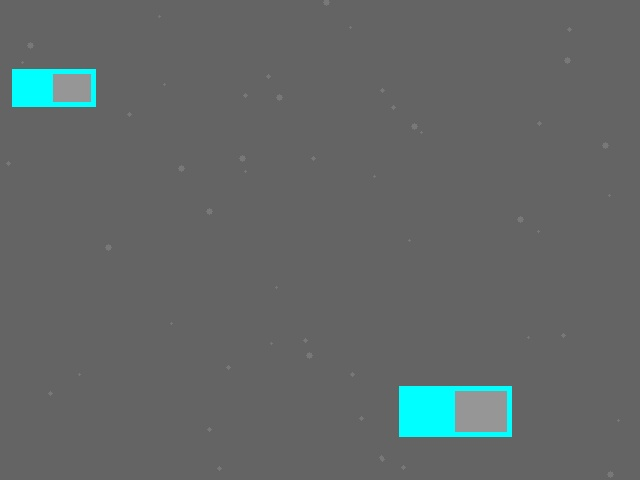truck: (399, 386, 511, 436), (12, 69, 95, 106)
